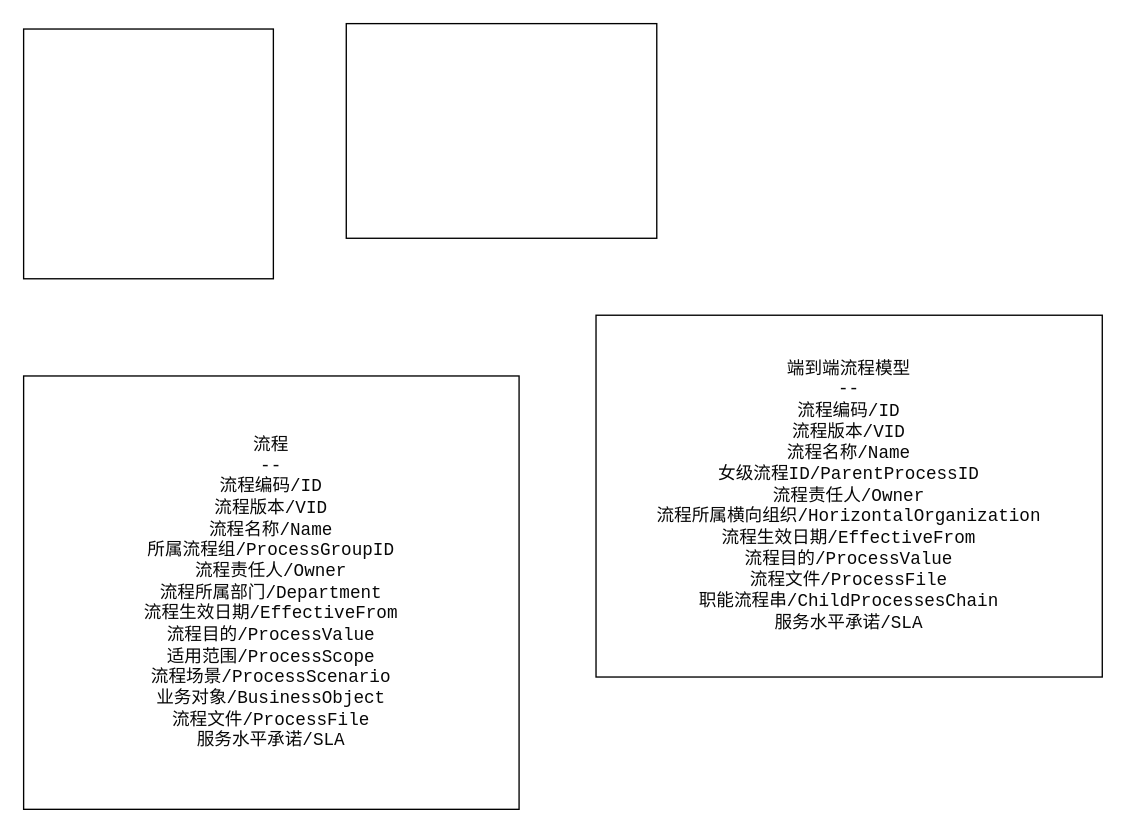
The diagram is 1126 pixels wide and 833 high, and some of its shapes have lost their labels. Each missing label, with the centre of its shape:
"流程域 -- 流程域编码 /ID 流程域名称 /Name 流程域所属类别 /Category 流程域责任人 /Owner" goes at (x=147, y=153).
"流程组 -- 流程组编码 /ID 流程组名称 /Name 流程组所属域 /ProcessAreaId" goes at (x=501, y=130).
